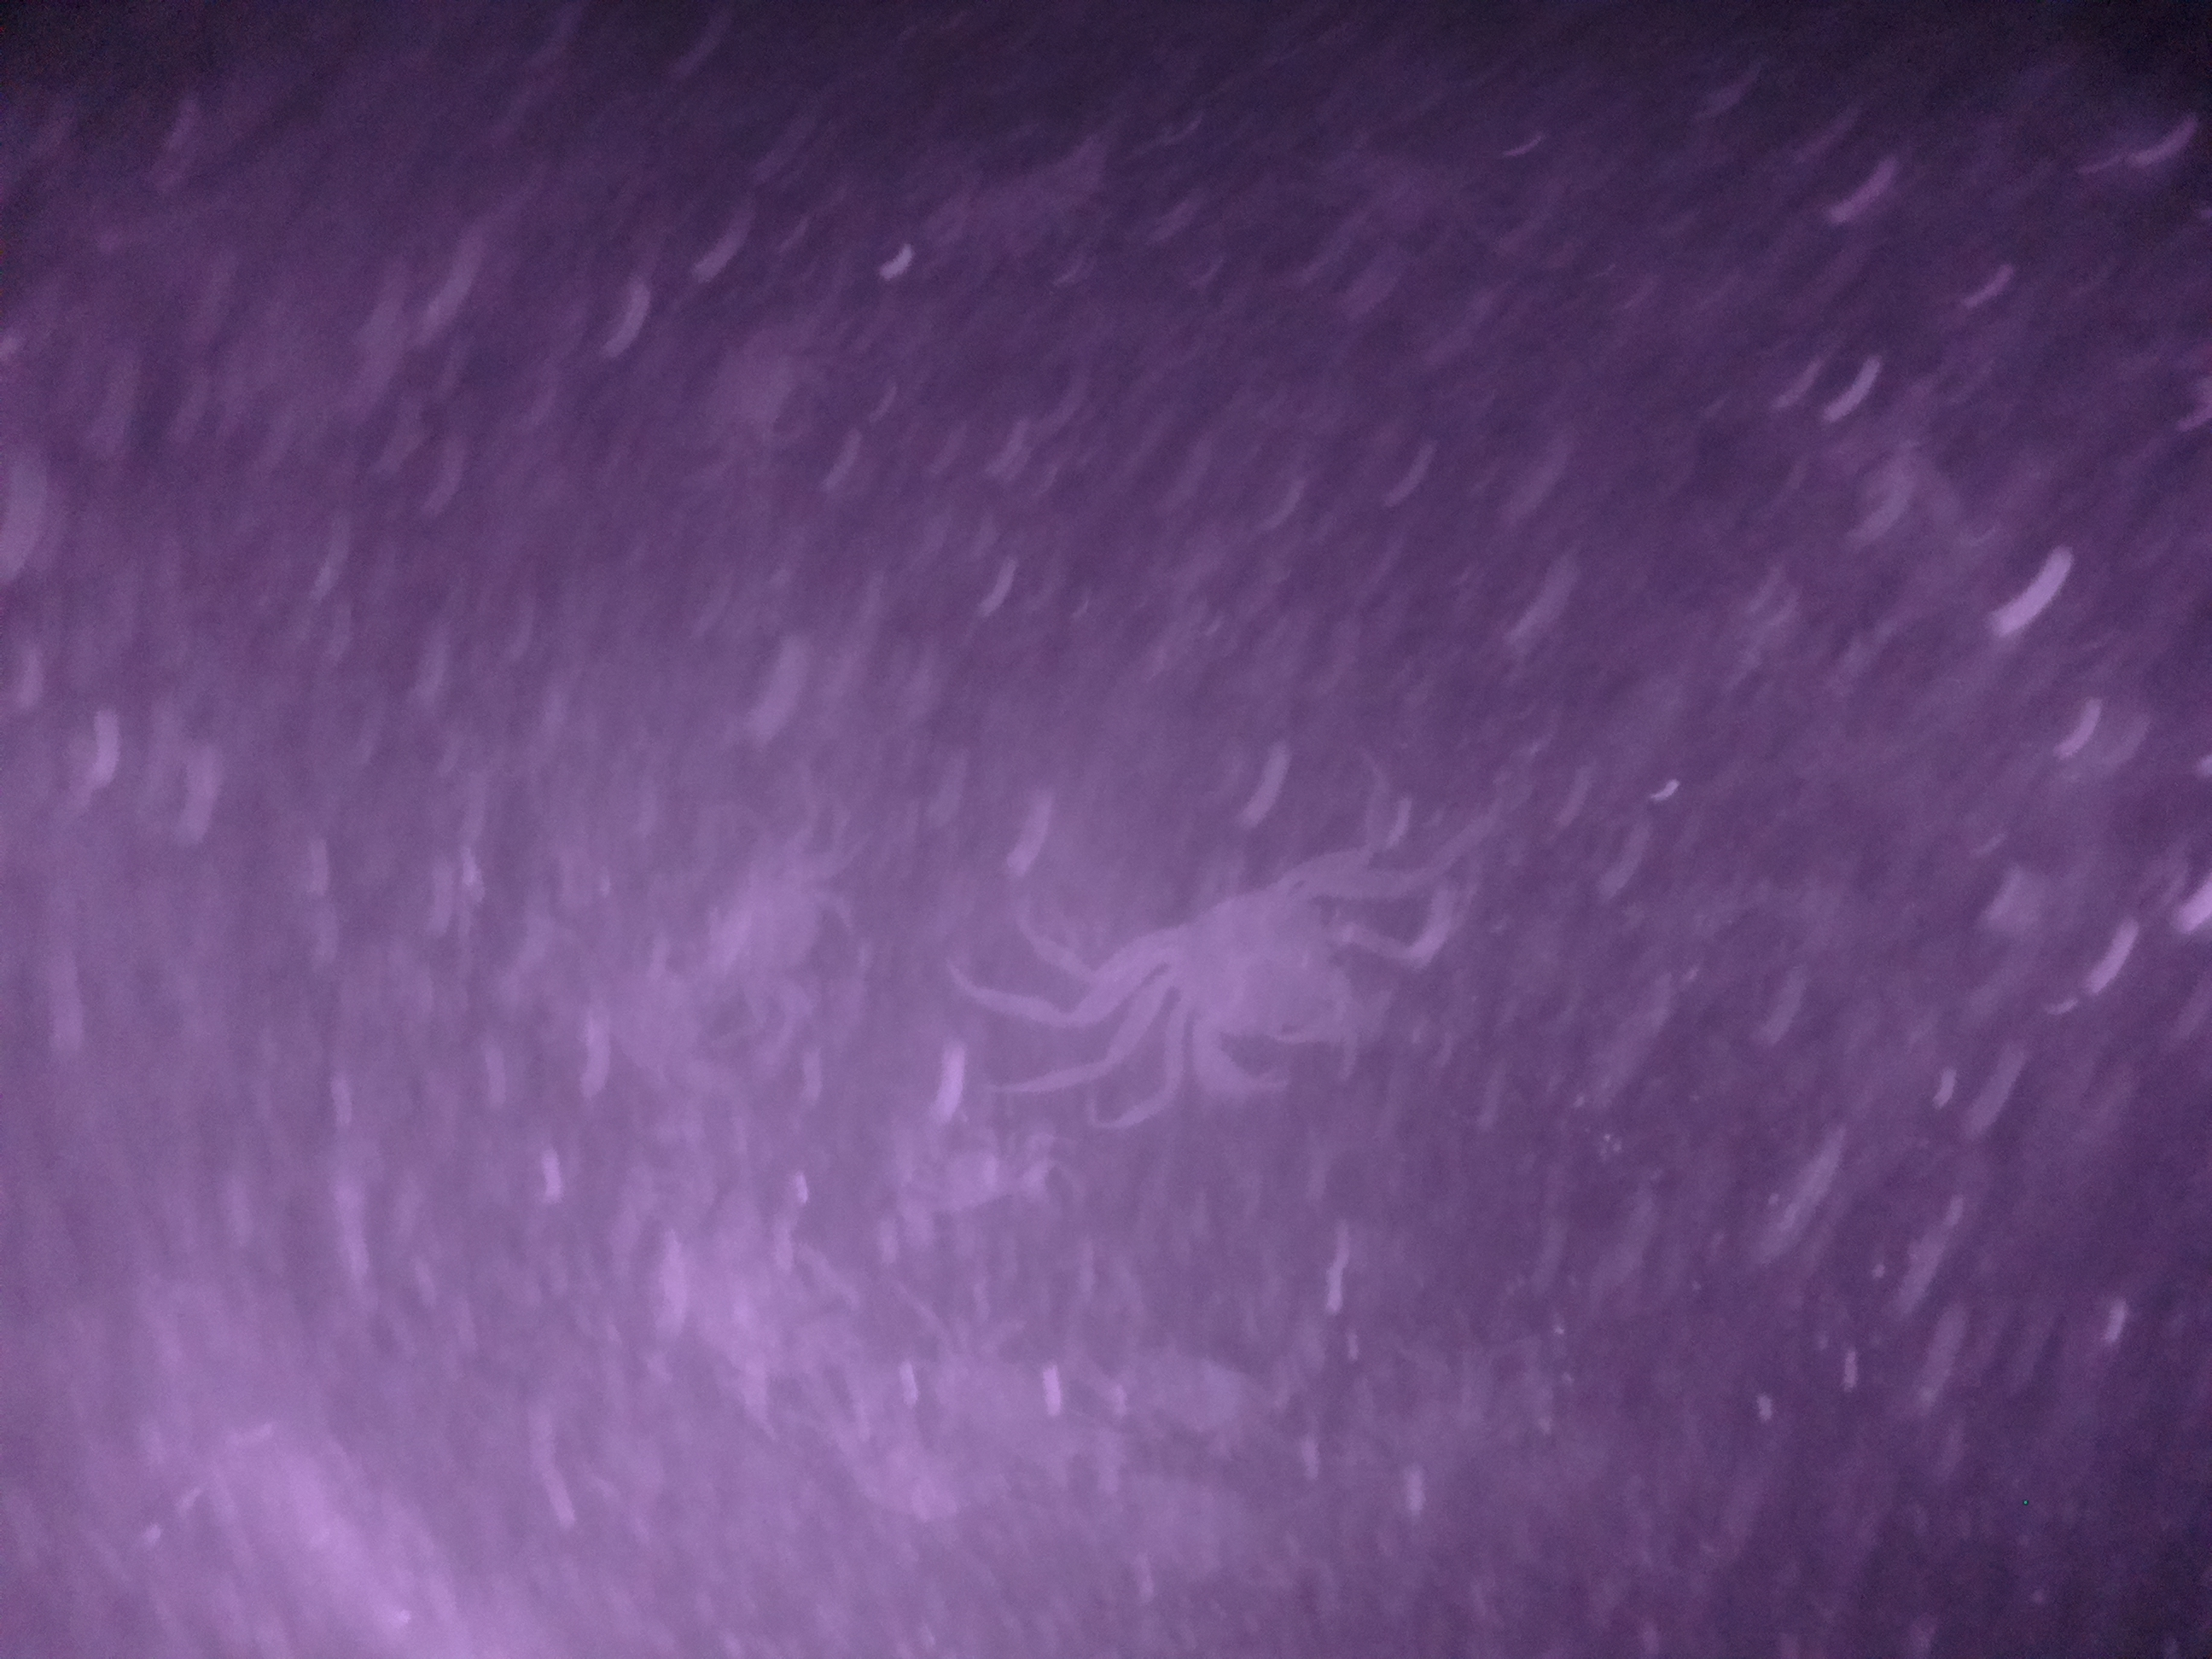Crab: (1103, 833, 1409, 1121)
